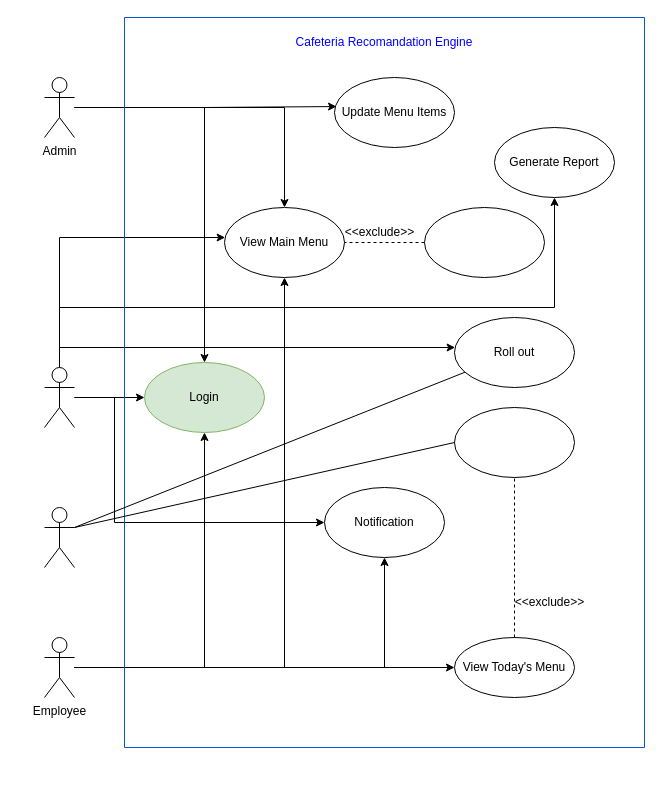
The diagram is 662 pixels wide and 795 high, and some of its shapes have lost their labels. Each missing label, with the box of its shape:
Chef: (44, 366, 74, 428)
Feedback: (424, 206, 544, 278)
Recomandation Engine: (44, 506, 74, 568)
Vote: (454, 406, 574, 478)
